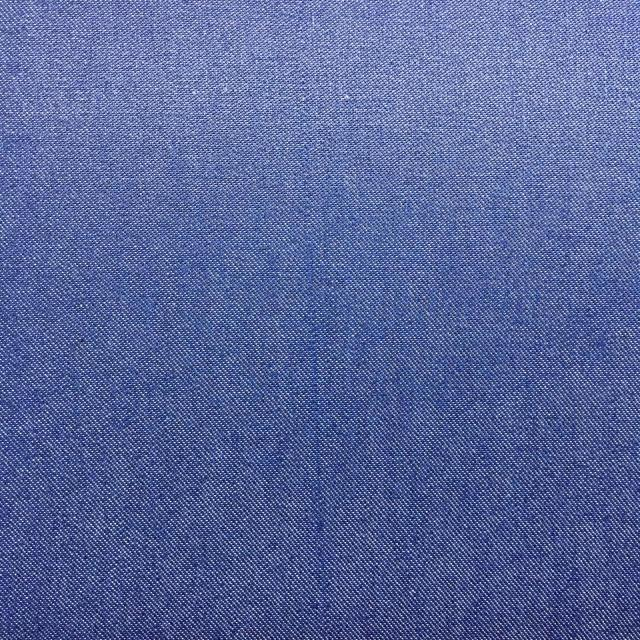Line: (294, 100, 332, 595)
